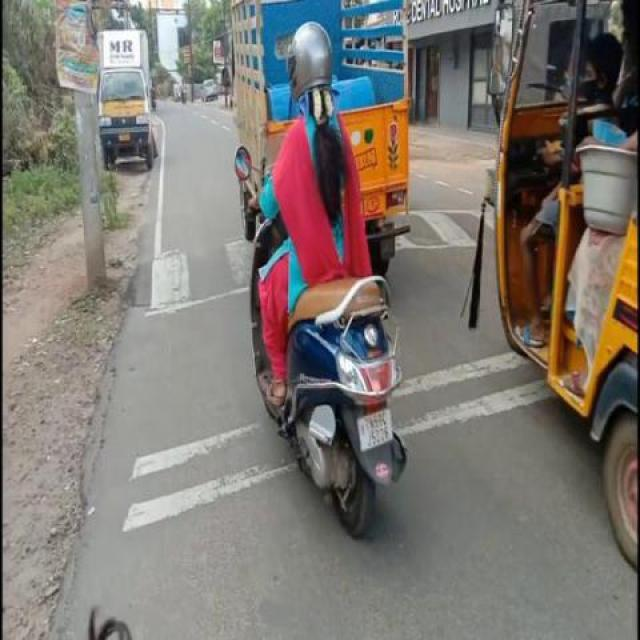Speed Bump: (128, 234, 248, 316), (408, 206, 495, 247)
